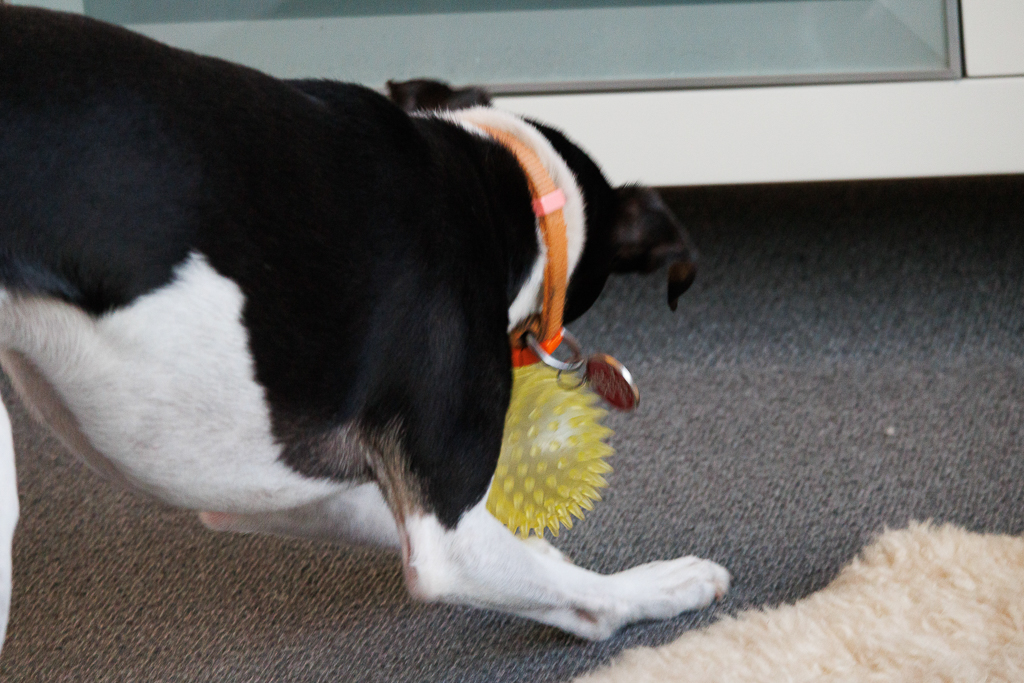Dog: (0, 0, 739, 660)
